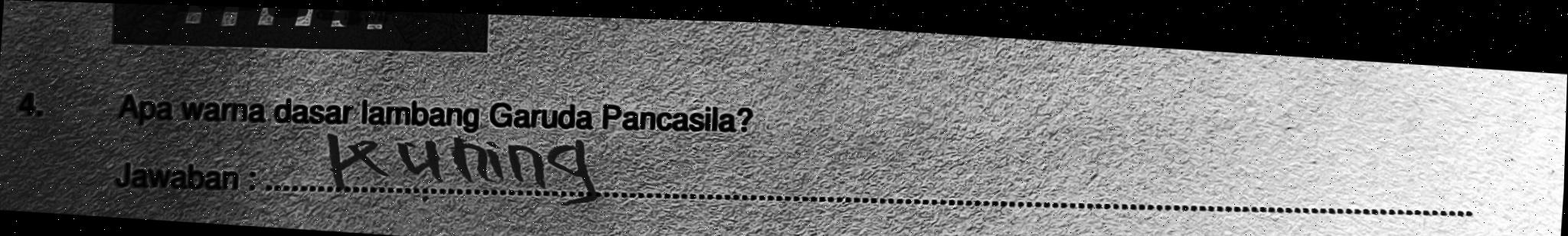jawaban: (317, 125, 642, 202)
